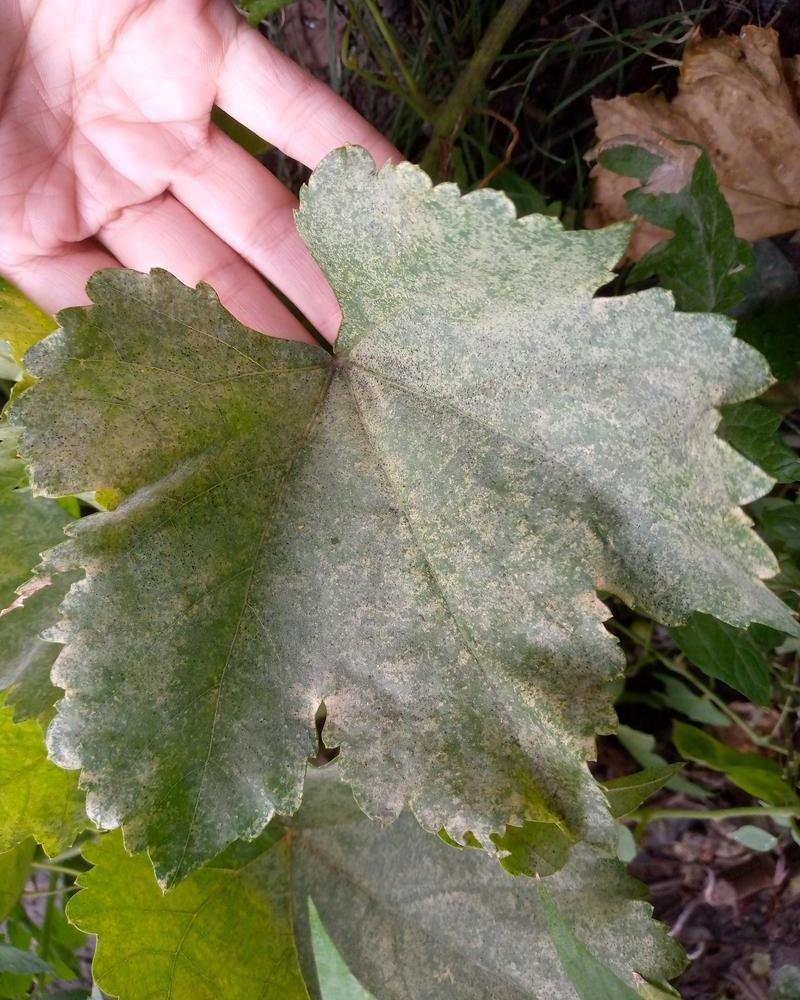Powdery-Mildew: (303, 154, 606, 503), (525, 296, 790, 626), (426, 499, 627, 862), (290, 595, 502, 842), (43, 514, 183, 842), (250, 392, 404, 663)
